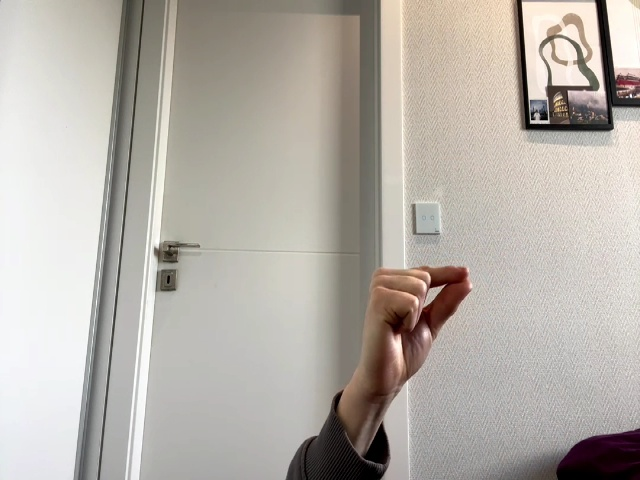P: (363, 266, 473, 416)
